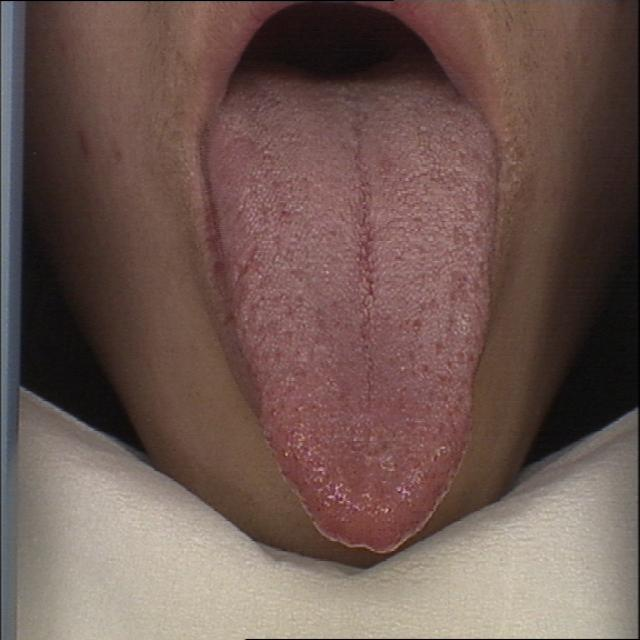tongue: (202, 85, 515, 568)
